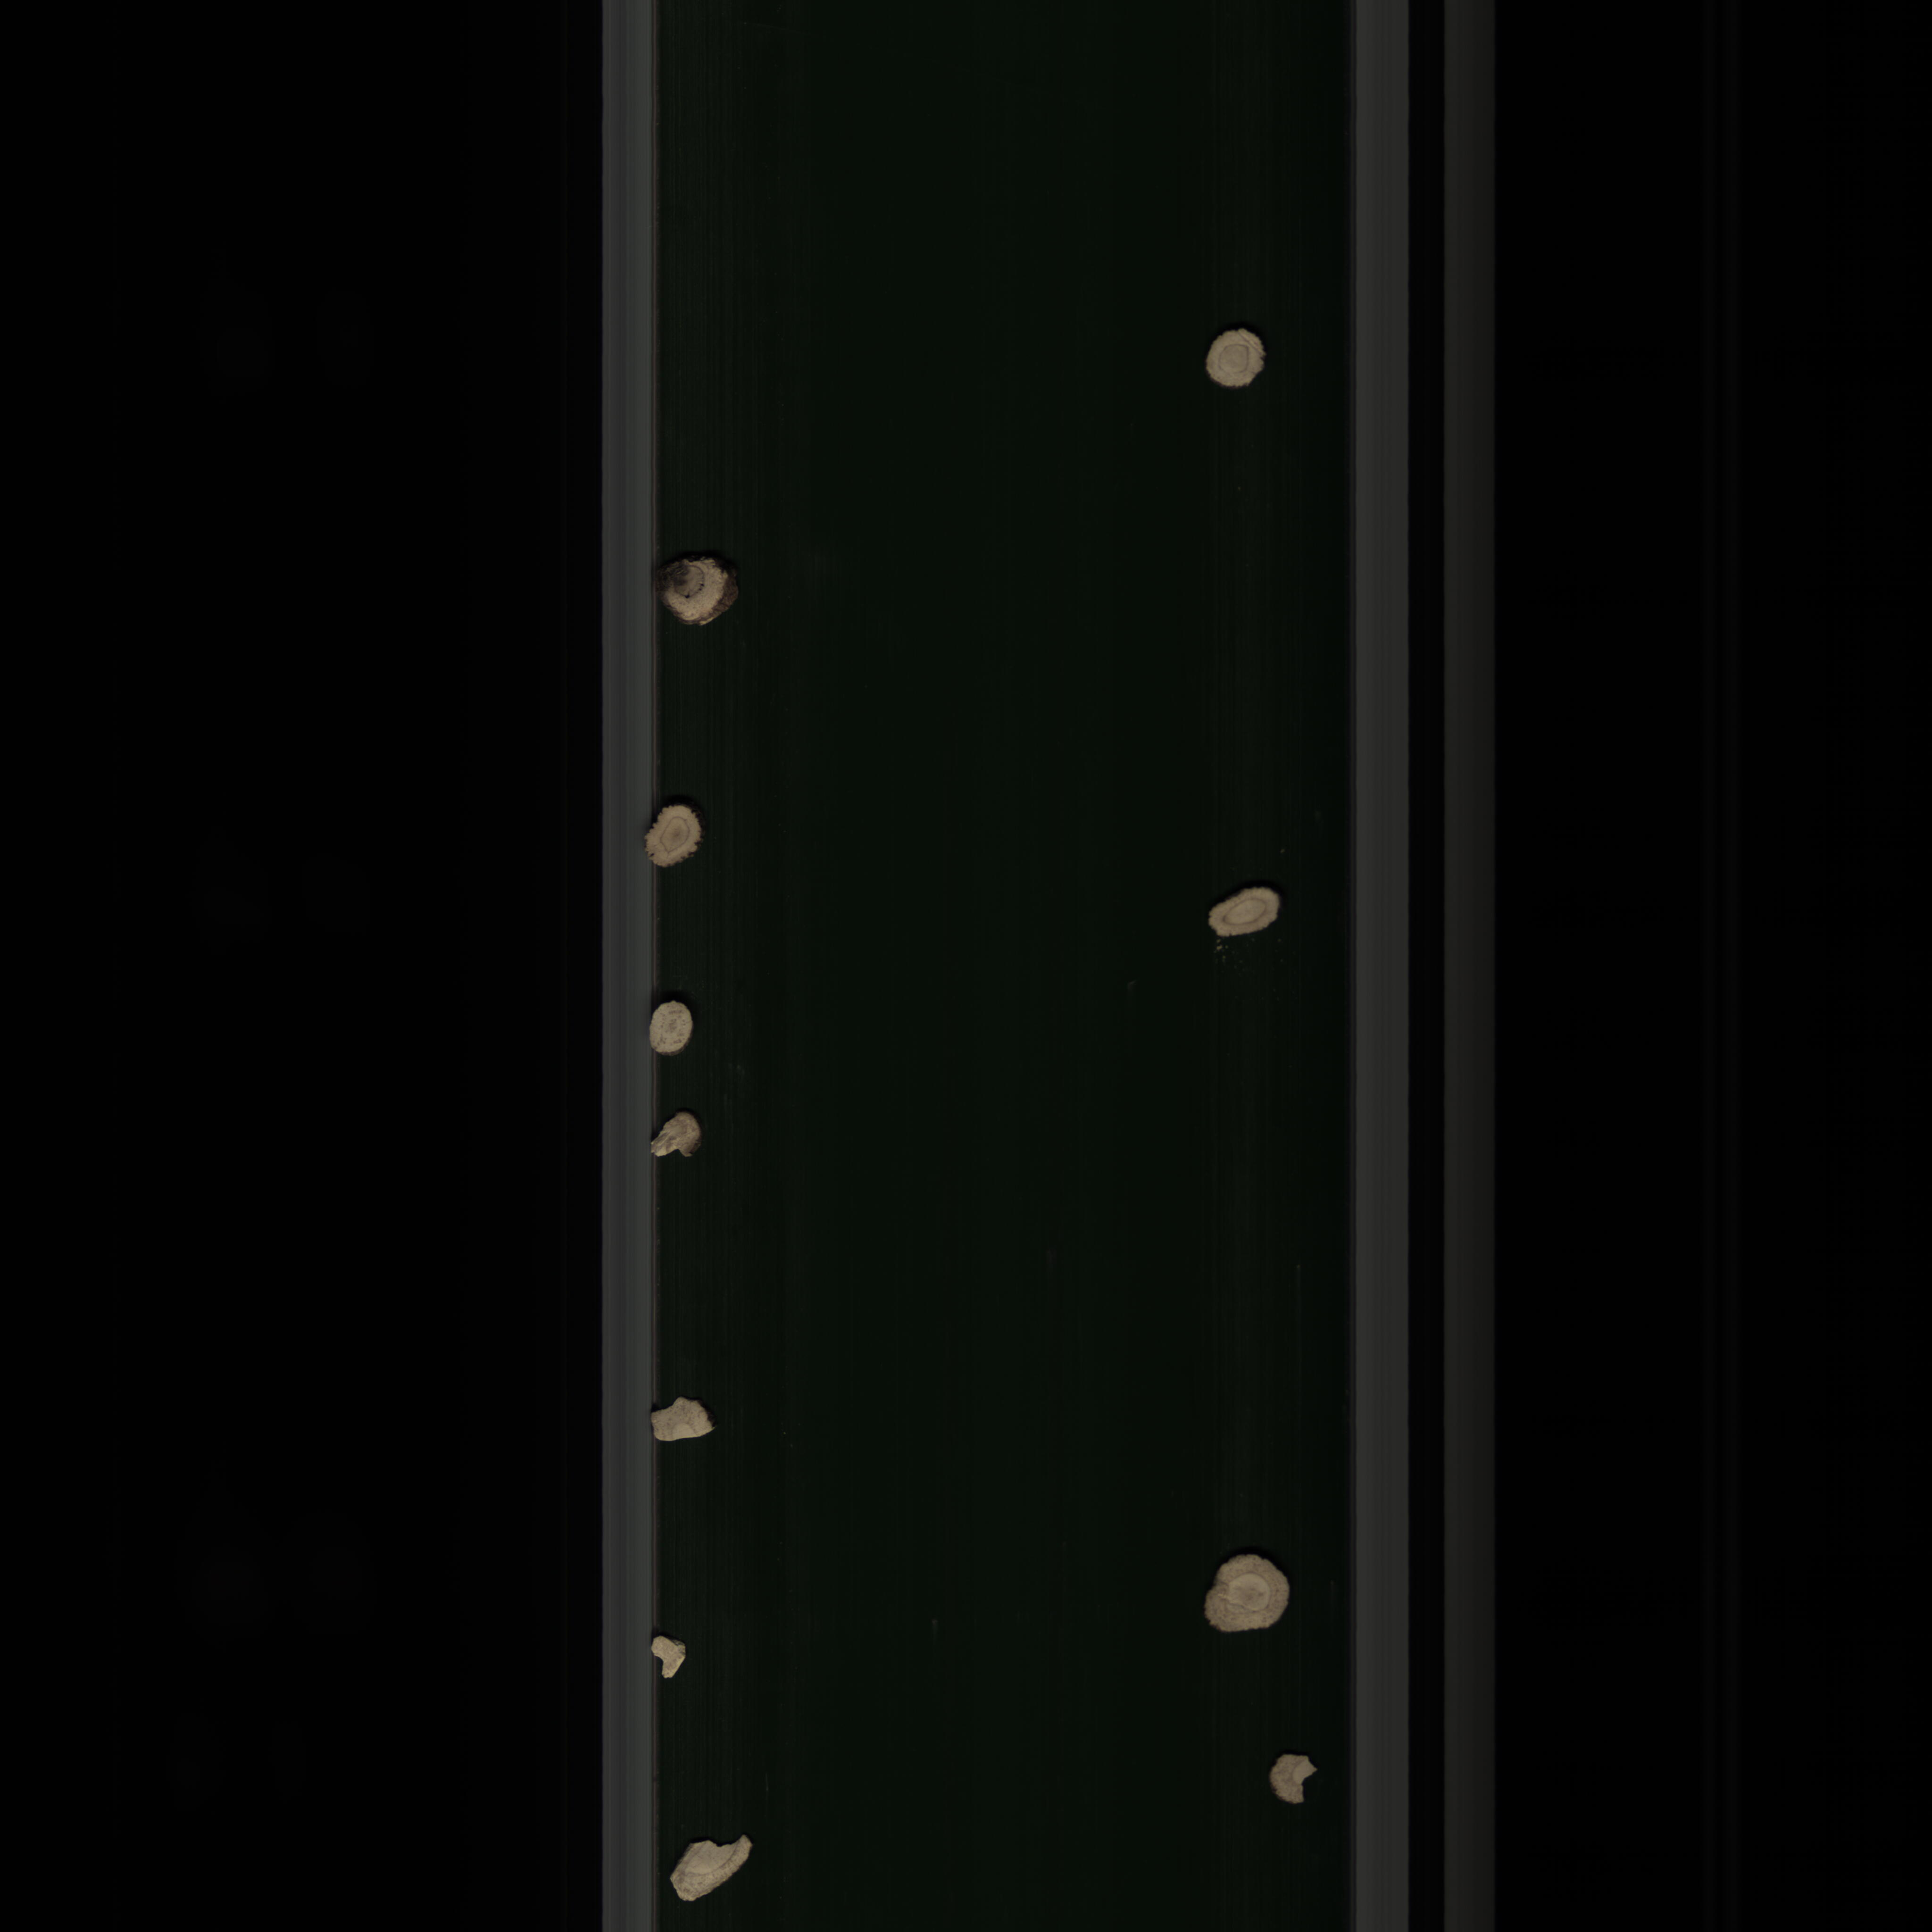debris: (665, 1831, 763, 1911), (640, 1394, 745, 1453), (646, 1106, 715, 1164), (1274, 1746, 1323, 1810), (649, 1631, 706, 1684)
distortion: (1198, 881, 1304, 941)
moldy: (656, 550, 747, 637)
